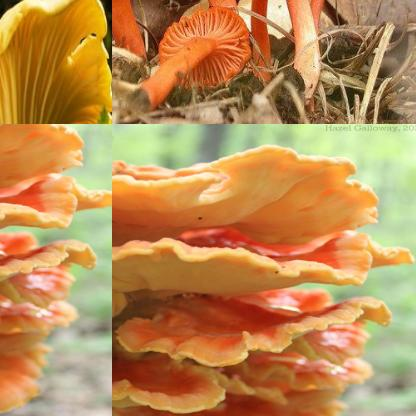CoW: (112, 143, 416, 416), (0, 124, 112, 416)
chanterelle: (0, 0, 112, 124), (143, 6, 252, 106), (262, 0, 332, 100), (235, 0, 314, 80), (309, 0, 366, 38)
